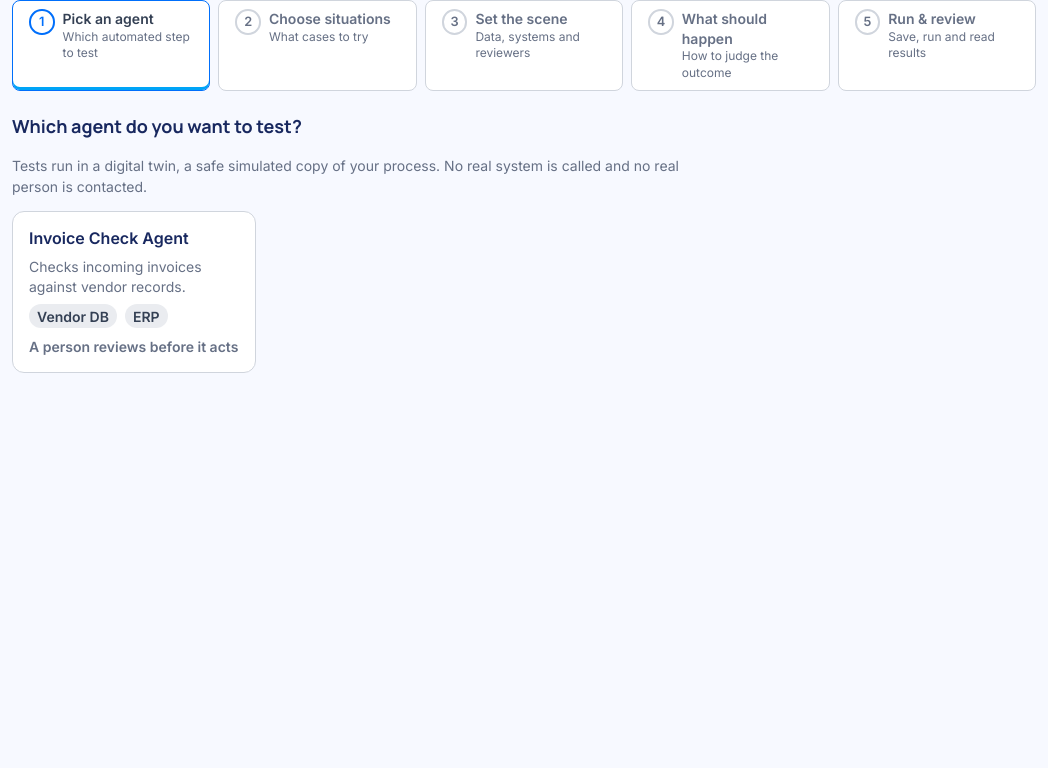
TwinTestBuilder › turns a plain-language description into a kept situation
The image size is (1048, 768).
Click the button "Invoice Check Agent" at (134, 292), box [12,211,256,373]
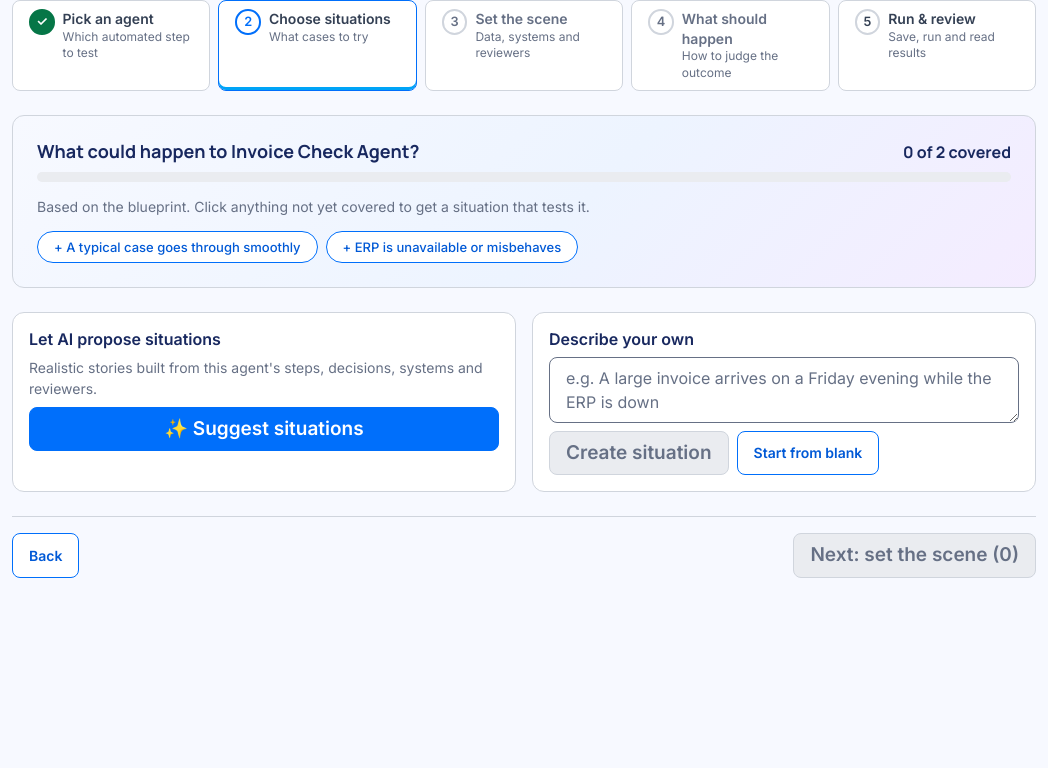
Type "a big invoice on Friday night" into the text box named "Describe a situation" at (784, 390), box [549,357,1019,423]
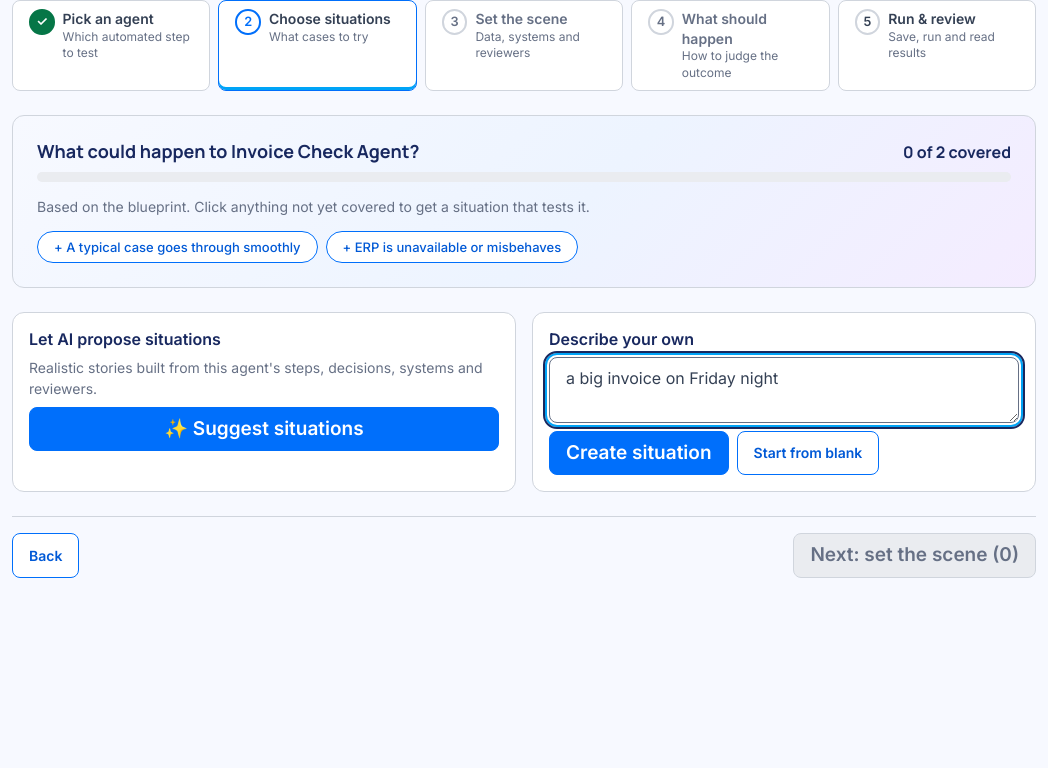
Click the button "Create situation" at (639, 453), box [549,431,728,475]
(page scrolled)
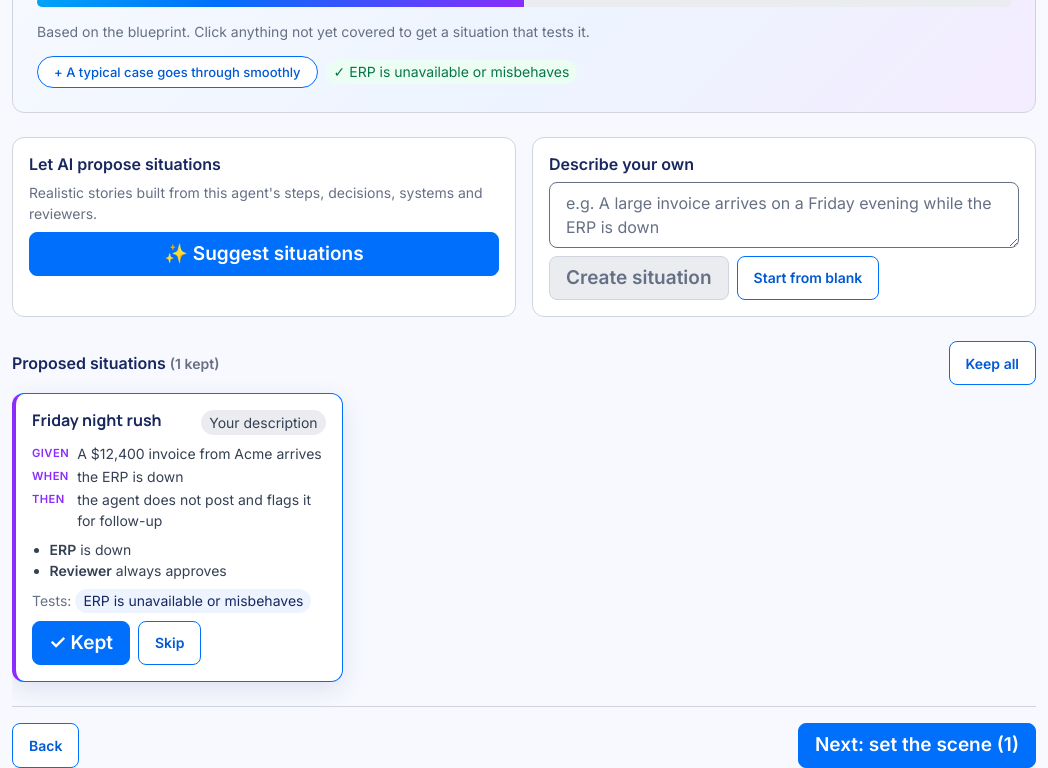
Result: the text "Your description" is shown at [201,410,326,435]
Result: the button "✓ Kept" is shown at [32,621,130,665]
